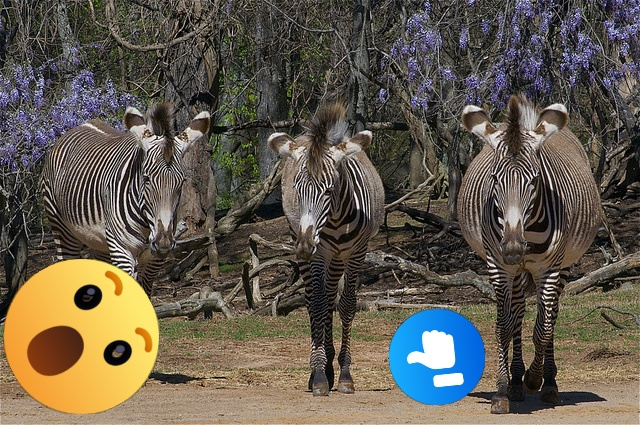like: (389, 309, 485, 405)
wow: (4, 259, 159, 414)
